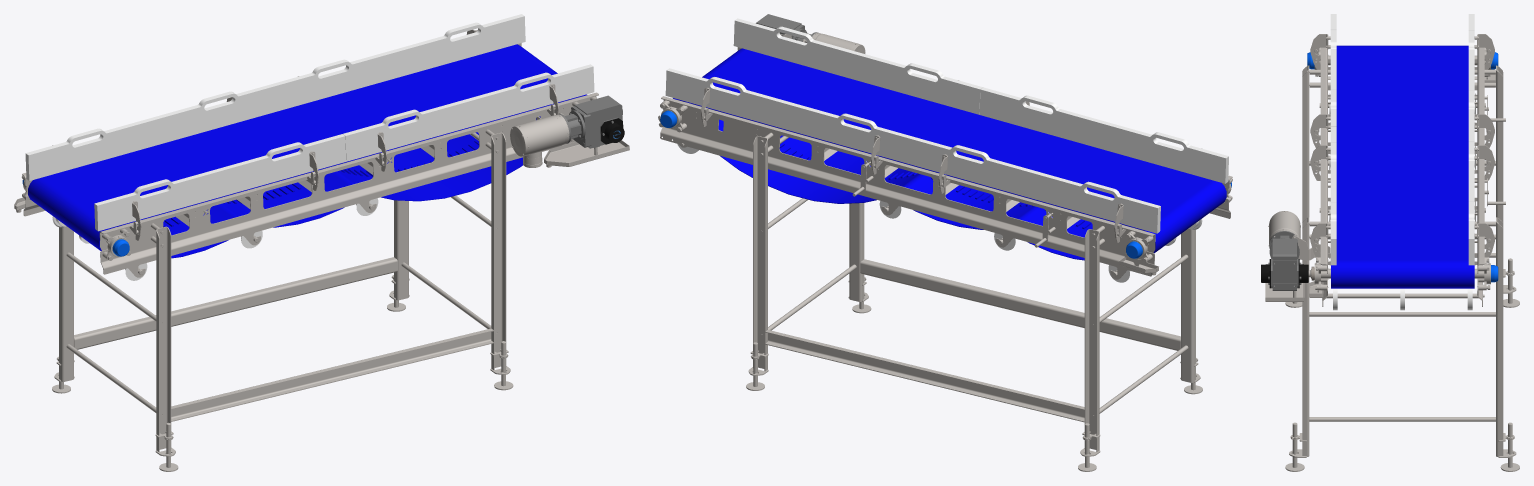
Rendered from BeltConveyor.glb.
3 views of the same model, side by side, from view 1: azimuth 30°, elevation 25°; view 2: azimuth 150°, elevation 25°; view 3: azimuth 270°, elevation 25° (orthographic).
Parts seen in each view (by area): view 1: 15995-BC004-P007-1, 15995-BC004-A021-1/15995-BC004-P001-1, 15995-BC004-A020-1/15995-BC004-P268-1, 15995-BC004-A029-1/15995-BC004-P269-1, 15995-BC004-A019-3/15995-BC004-P253-1, 15995-BC004-A033-1/15995-BC004-P254-1, 15995-BC004-A021-1/15995-BC004-P009-1, 15995-BC004-P056-1, 15995-BC004-P056-2, 15995-BC004-P054-1, 15995-BC004-P270-3, STOBER K302WG0460MR160 050F EL1256-1 (+4 smaller); view 2: 15995-BC004-P007-1, 15995-BC004-A021-1/15995-BC004-P011-1, 15995-BC004-A019-3/15995-BC004-P253-1, 15995-BC004-A033-1/15995-BC004-P254-1, 15995-BC004-A020-1/15995-BC004-P268-1, 15995-BC004-A021-1/15995-BC004-P003-1, 15995-BC004-A029-1/15995-BC004-P269-1, 15995-BC004-P056-2, 15995-BC004-P056-1, 15995-BC004-P270-4, 15995-BC004-P054-2, 15995-BC004-P270-3 (+1 smaller); view 3: 15995-BC004-P007-1, STOBER K302WG0460MR160 050F EL1256-1, 15995-BC004-P054-2, 15995-BC004-P054-1, 15995-BC004-P270-3, 15995-BC004-P270-4, 15995-BC004-A033-1/15995-BC004-P254-1, 15995-BC004-A029-1/15995-BC004-P269-1, 15995-BC004-P052-1, 15995-BC004-P052-4, 15995-BC004-A021-1/15995-BC004-P011-1, 15995-BC004-A021-1/15995-BC004-P009-1 (+16 smaller).
Boxes of the visible parts, x1,y1,x2,y2 form: 15995-BC004-P007-1: (28,44,586,258); 15995-BC004-A021-1/15995-BC004-P001-1: (99,162,352,277); 15995-BC004-A020-1/15995-BC004-P268-1: (25,84,279,180); 15995-BC004-A029-1/15995-BC004-P269-1: (271,14,525,110); 15995-BC004-A019-3/15995-BC004-P253-1: (94,134,346,231); 15995-BC004-A033-1/15995-BC004-P254-1: (343,64,594,161); 15995-BC004-A021-1/15995-BC004-P009-1: (348,92,598,212); 15995-BC004-P056-1: (171,328,493,421); 15995-BC004-P056-2: (74,257,397,349); 15995-BC004-P054-1: (491,132,506,369); 15995-BC004-P270-3: (156,226,171,451); STOBER K302WG0460MR160 050F EL1256-1: (557,95,624,148); 15995-BC004-P007-1: (673,48,1226,260); 15995-BC004-A021-1/15995-BC004-P011-1: (658,96,908,215); 15995-BC004-A019-3/15995-BC004-P253-1: (979,87,1228,183); 15995-BC004-A033-1/15995-BC004-P254-1: (733,18,982,114); 15995-BC004-A020-1/15995-BC004-P268-1: (909,136,1160,233); 15995-BC004-A021-1/15995-BC004-P003-1: (905,165,1155,279); 15995-BC004-A029-1/15995-BC004-P269-1: (665,68,915,165); 15995-BC004-P056-2: (765,330,1084,422); 15995-BC004-P056-1: (860,259,1180,350); 15995-BC004-P270-4: (1084,229,1099,451); 15995-BC004-P054-2: (753,136,767,371); 15995-BC004-P270-3: (1181,229,1195,382); 15995-BC004-P007-1: (1331,45,1474,288); STOBER K302WG0460MR160 050F EL1256-1: (1261,231,1308,290); 15995-BC004-P054-2: (1496,217,1503,456); 15995-BC004-P054-1: (1302,217,1309,456); 15995-BC004-P270-3: (1302,65,1309,222); 15995-BC004-P270-4: (1496,65,1503,223); 15995-BC004-A033-1/15995-BC004-P254-1: (1330,126,1336,265); 15995-BC004-A029-1/15995-BC004-P269-1: (1468,127,1474,265); 15995-BC004-P052-1: (1309,417,1495,421); 15995-BC004-P052-4: (1309,312,1495,316); 15995-BC004-A021-1/15995-BC004-P011-1: (1477,159,1484,306); 15995-BC004-A021-1/15995-BC004-P009-1: (1320,159,1327,306).
Size of the model in its own units: 3.13 by 1.66 by 1.37.
